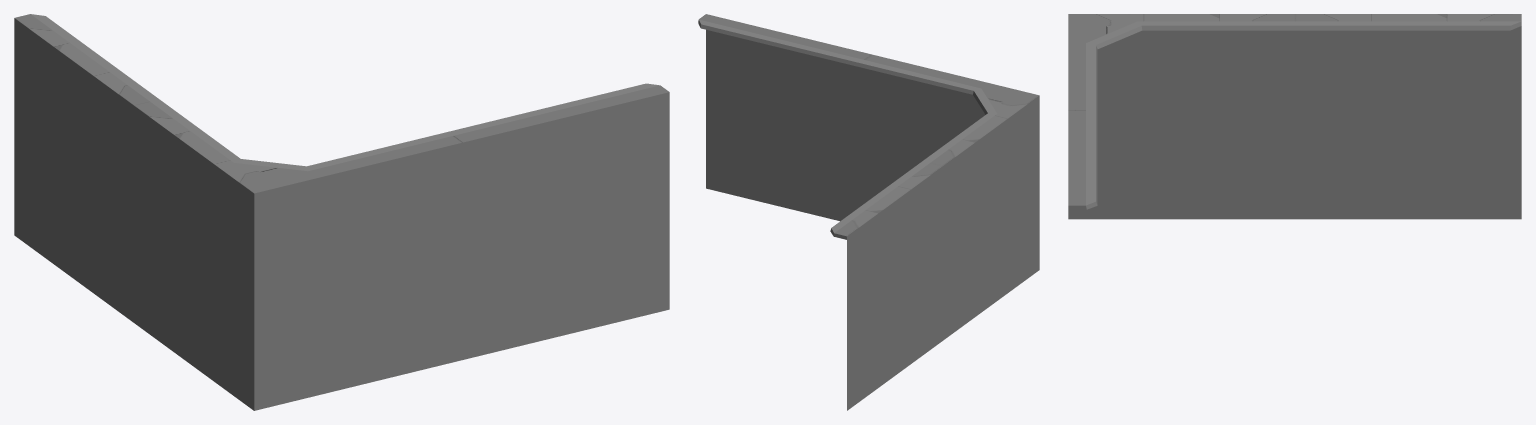
The model's file is SM_Floor_10x10_Corner.fbx.
The picture shows the model from 3 angles, left to right: view 1: azimuth 30°, elevation 25°; view 2: azimuth 150°, elevation 25°; view 3: azimuth 270°, elevation 25°; orthographic projection. The views are drawn at different scales.
Parts seen in each view (by area): view 1: SM_Floor_10x10_Corner; view 2: SM_Floor_10x10_Corner; view 3: SM_Floor_10x10_Corner.
Boxes of the visible parts, left/top/right/bottom form: SM_Floor_10x10_Corner: left=14, top=14, right=669, bottom=410; SM_Floor_10x10_Corner: left=698, top=14, right=1039, bottom=410; SM_Floor_10x10_Corner: left=1068, top=14, right=1521, bottom=219.
Bounding box in the file's own units: 1000 × 500 × 1000.
